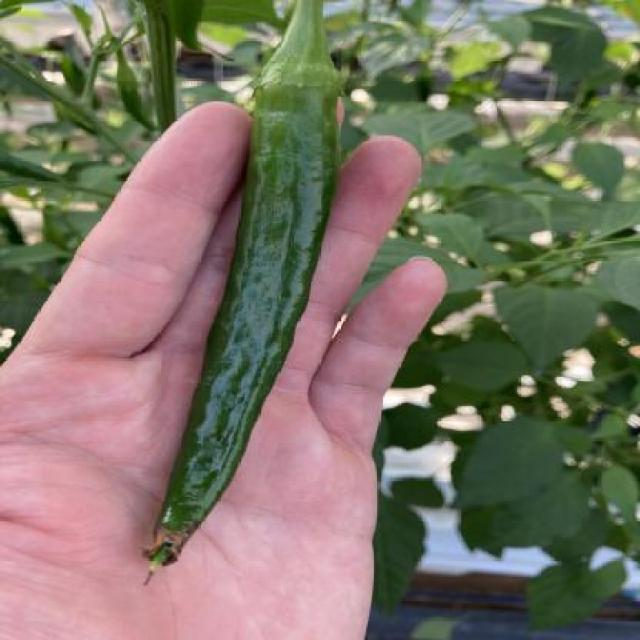green chilli: (150, 83, 342, 565)
